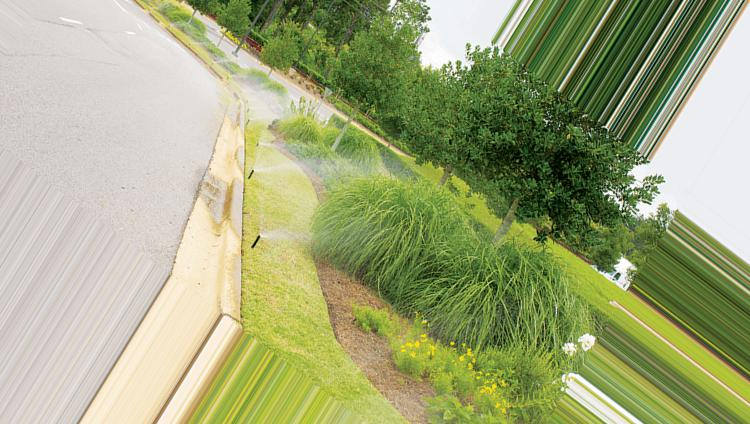patch: (164, 88, 242, 315), (339, 315, 391, 376), (327, 276, 372, 298), (387, 375, 418, 405)
